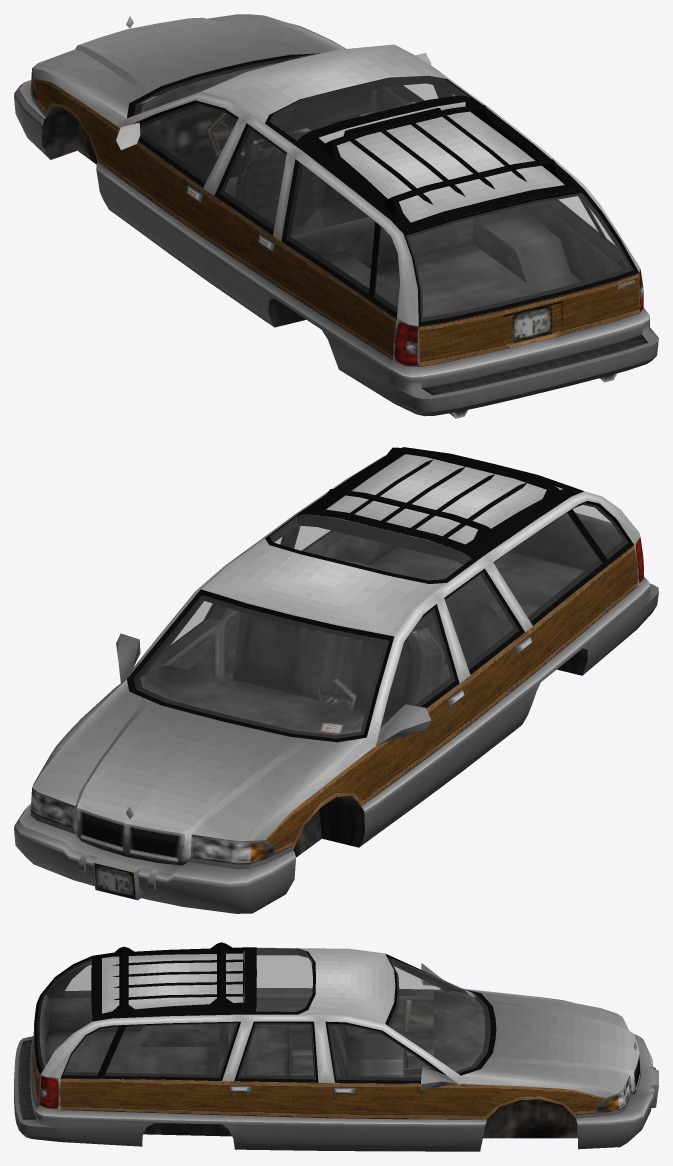
File: car.glb
3 views of the same model, one above another, from view 1: azimuth 30°, elevation 25°; view 2: azimuth 150°, elevation 25°; view 3: azimuth 270°, elevation 25° (orthographic). The views are drawn at different scales.
Visible parts, largest first — view 1: chassis_hi, boot_hi_ok, door_lf_hi_ok, bonnet_hi_ok, door_lr_hi_ok, bump_rear_hi_ok, extra2, wing_lf_hi_ok, extra1, bump_front_hi_ok, windscreen_hi_ok, door_rf_hi_ok; view 2: chassis_hi, bonnet_hi_ok, windscreen_hi_ok, door_lf_hi_ok, bump_front_hi_ok, door_lr_hi_ok, wing_lf_hi_ok, extra2, door_rf_hi_ok, boot_hi_ok, extra1, door_rr_hi_ok; view 3: chassis_hi, door_rf_hi_ok, door_rr_hi_ok, bonnet_hi_ok, windscreen_hi_ok, wing_rf_hi_ok, boot_hi_ok, door_lr_hi_ok, extra2, bump_front_hi_ok, bump_rear_hi_ok, door_lf_hi_ok (+1 smaller).
Boxes of the visible parts, <box> form: chassis_hi: <box>77,44,643,418</box>; boot_hi_ok: <box>403,189,642,388</box>; door_lf_hi_ok: <box>106,92,250,273</box>; bonnet_hi_ok: <box>32,14,344,118</box>; door_lr_hi_ok: <box>199,113,301,313</box>; bump_rear_hi_ok: <box>389,308,658,416</box>; extra2: <box>294,95,583,233</box>; wing_lf_hi_ok: <box>30,68,126,219</box>; extra1: <box>319,104,564,216</box>; bump_front_hi_ok: <box>14,80,79,159</box>; windscreen_hi_ok: <box>134,54,316,115</box>; door_rf_hi_ok: <box>367,47,439,113</box>; chassis_hi: <box>30,454,643,869</box>; bonnet_hi_ok: <box>32,679,366,865</box>; windscreen_hi_ok: <box>134,595,388,738</box>; door_lf_hi_ok: <box>366,593,471,828</box>; bump_front_hi_ok: <box>14,804,295,913</box>; door_lr_hi_ok: <box>433,556,537,762</box>; wing_lf_hi_ok: <box>249,738,377,868</box>; extra2: <box>294,447,583,561</box>; door_rf_hi_ok: <box>116,549,249,686</box>; boot_hi_ok: <box>509,505,622,570</box>; extra1: <box>319,447,563,542</box>; door_rr_hi_ok: <box>220,511,300,678</box>; chassis_hi: <box>39,947,631,1151</box>; door_rf_hi_ok: <box>319,1014,468,1145</box>; door_rr_hi_ok: <box>222,1014,328,1144</box>; bonnet_hi_ok: <box>462,988,640,1094</box>; windscreen_hi_ok: <box>388,958,490,1073</box>; wing_rf_hi_ok: <box>458,1075,619,1151</box>; boot_hi_ok: <box>30,956,92,1118</box>; door_lr_hi_ok: <box>256,956,312,1055</box>; extra2: <box>91,947,256,1021</box>; bump_front_hi_ok: <box>576,1034,658,1149</box>; bump_rear_hi_ok: <box>14,1036,60,1141</box>; door_lf_hi_ok: <box>346,963,445,1055</box>.
Bounding box in the file's own units: 2.41 × 1.36 × 5.72.
Materials: 61 (46 with a texture image).
